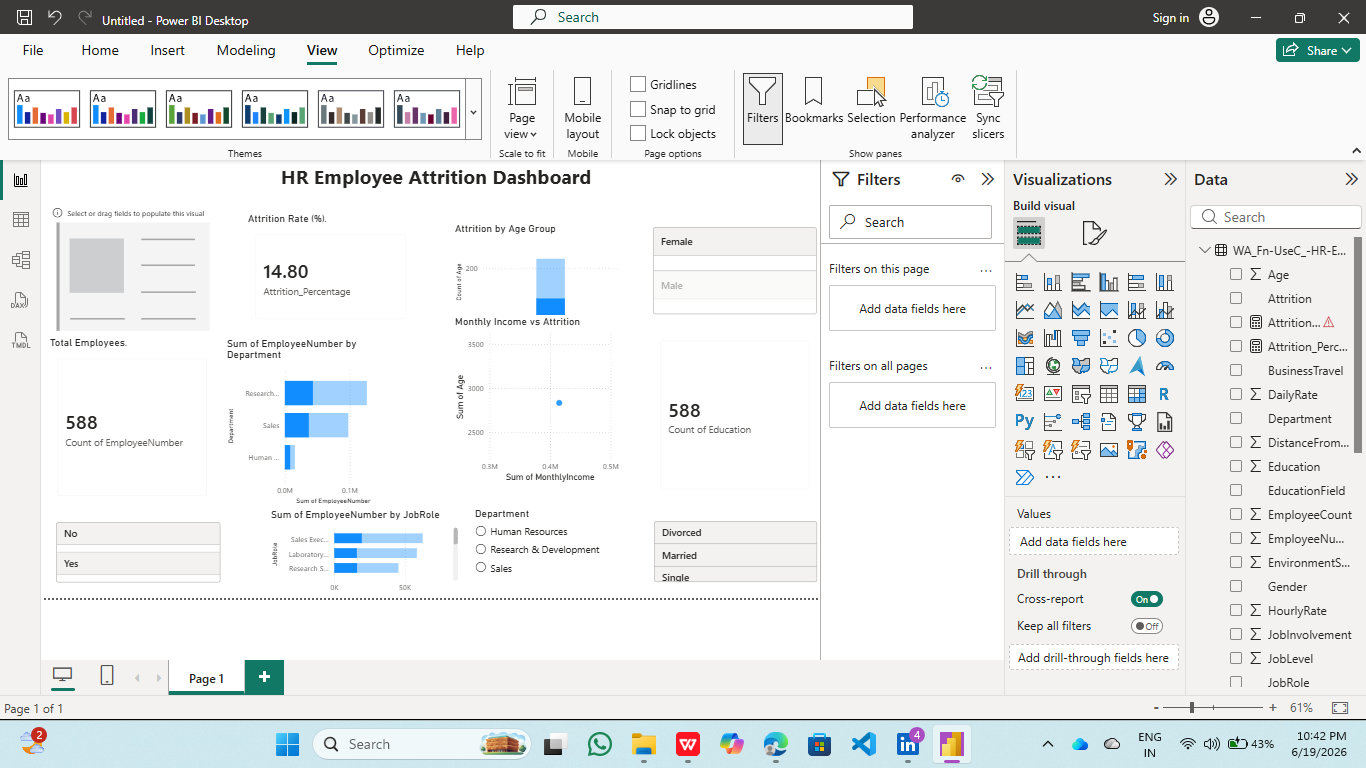

This screenshot's page, from the dashboard's own definition file:
{"tool":"powerbi","page":{"name":"Page 1","canvas":[1280,720],"ordinal":0},"visuals":[{"type":"cardVisual","box":[10.8,69.9,279.7,209.7],"z":0},{"type":"cardVisual","title":"Total Employees.","fields":{"Data":["CountNonNull(WA_Fn-UseC_-HR-Employee-Attrition.EmployeeNumber)"]},"box":[10,290,280,280],"z":1000},{"type":"cardVisual","fields":{"Rows":["WA_Fn-UseC_-HR-Employee-Attrition.Attrition"]},"box":[20.5,570.4,280.6,150.6],"z":2000},{"type":"cardVisual","title":"Attrition Rate (%).","fields":{"Data":["WA_Fn-UseC_-HR-Employee-Attrition.Attrition_Percentage"]},"box":[335.2,86.1,281.5,193.6],"z":3000},{"type":"clusteredBarChart","fields":{"Category":["WA_Fn-UseC_-HR-Employee-Attrition.Department"],"Y":["Sum(WA_Fn-UseC_-HR-Employee-Attrition.EmployeeNumber)"]},"box":[300.1,290.7,279,279],"z":3001},{"type":"clusteredBarChart","fields":{"Category":["WA_Fn-UseC_-HR-Employee-Attrition.JobRole"],"Y":["Sum(WA_Fn-UseC_-HR-Employee-Attrition.EmployeeNumber)"]},"box":[372.9,571.9,317.3,148.8],"z":3002},{"type":"lineClusteredColumnComboChart","title":"Attrition by Age Group","fields":{"Y":["CountNonNull(WA_Fn-UseC_-HR-Employee-Attrition.Age)"]},"box":[675.9,102.2,279.7,177.5],"z":3003},{"type":"scatterChart","title":"Monthly Income vs Attrition","fields":{"X":["Sum(WA_Fn-UseC_-HR-Employee-Attrition.MonthlyIncome)"],"Y":["Sum(WA_Fn-UseC_-HR-Employee-Attrition.Age)"]},"box":[675.9,254.6,279.7,279.7],"z":3004},{"type":"listSlicer","fields":{"Values":["WA_Fn-UseC_-HR-Employee-Attrition.Department"]},"box":[708.1,570.1,277.9,150.6],"z":3005},{"type":"cardVisual","fields":{"Rows":["WA_Fn-UseC_-HR-Employee-Attrition.Gender"]},"box":[1000.3,86.1,279.7,193.6],"z":3006},{"type":"cardVisual","fields":{"Data":["CountNonNull(WA_Fn-UseC_-HR-Employee-Attrition.Education)"]},"box":[1000.3,279.7,279.7,279.7],"z":3007},{"type":"cardVisual","fields":{"Rows":["WA_Fn-UseC_-HR-Employee-Attrition.MaritalStatus"]},"box":[1001.6,568.1,278.4,150.6],"z":3008},{"type":"textbox","box":[299.4,0,701,53.8],"z":3009}]}

Visuals, with their boxes on the page's 1280x720 design canvas (x1, y1, x2, y2). These are canvas units, not pixel positions in the 1366x768 screenshot, which may show the page scaled, cropped or inside an application window:
cardVisual: region(11, 70, 290, 280)
"Total Employees." cardVisual: region(10, 290, 290, 570)
cardVisual - WA_Fn-UseC_-HR-Employee-Attrition.Attrition: region(20, 570, 301, 721)
"Attrition Rate (%)." cardVisual: region(335, 86, 617, 280)
clusteredBarChart - WA_Fn-UseC_-HR-Employee-Attrition.Department x Sum(WA_Fn-UseC_-HR-Employee-Attrition.EmployeeNumber): region(300, 291, 579, 570)
clusteredBarChart - WA_Fn-UseC_-HR-Employee-Attrition.JobRole x Sum(WA_Fn-UseC_-HR-Employee-Attrition.EmployeeNumber): region(373, 572, 690, 721)
"Attrition by Age Group" lineClusteredColumnComboChart: region(676, 102, 956, 280)
"Monthly Income vs Attrition" scatterChart: region(676, 255, 956, 534)
listSlicer - WA_Fn-UseC_-HR-Employee-Attrition.Department: region(708, 570, 986, 721)
cardVisual - WA_Fn-UseC_-HR-Employee-Attrition.Gender: region(1000, 86, 1280, 280)
cardVisual - CountNonNull(WA_Fn-UseC_-HR-Employee-Attrition.Education): region(1000, 280, 1280, 559)
cardVisual - WA_Fn-UseC_-HR-Employee-Attrition.MaritalStatus: region(1002, 568, 1280, 719)
textbox: region(299, 0, 1000, 54)
